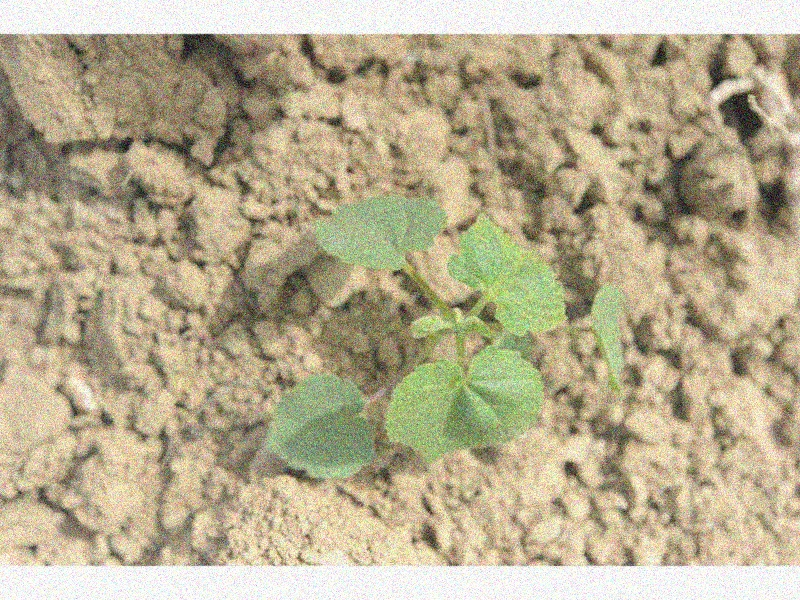velvet: (262, 192, 623, 482)
